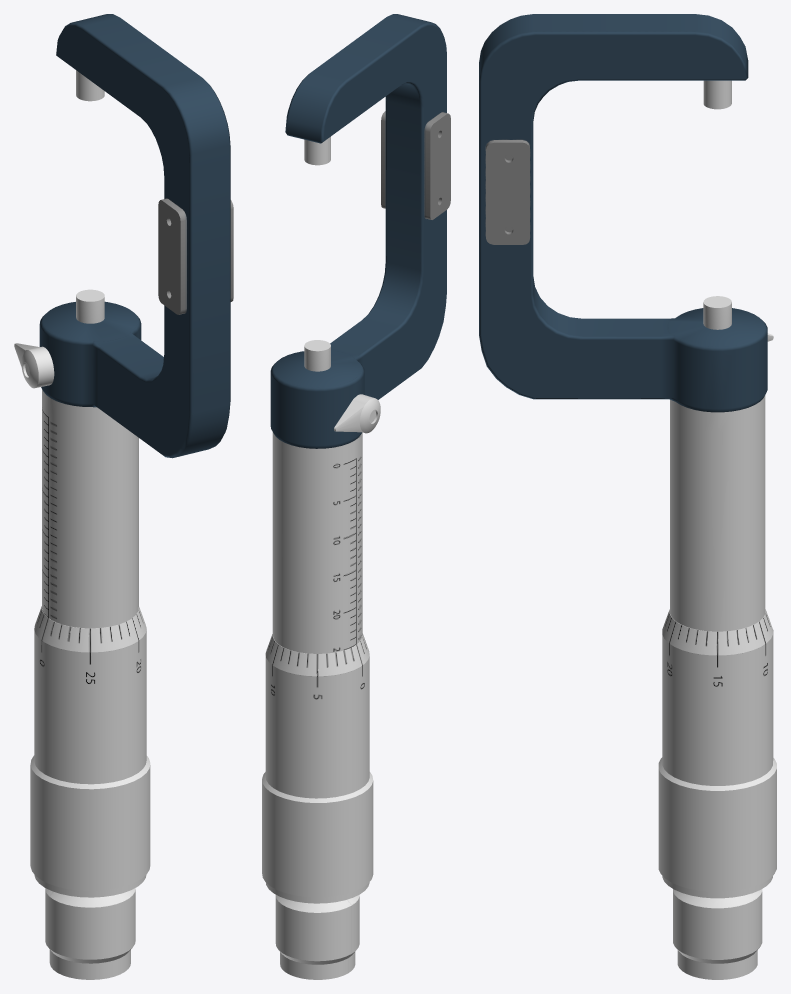
File: MicrometerDetail.fbx
3 renders of one model, left to right at view 1: azimuth 30°, elevation 25°; view 2: azimuth 150°, elevation 25°; view 3: azimuth 270°, elevation 25°, orthographic. The views are drawn at different scales.
Visible parts, largest first — view 1: Micrometer Base.002, Micrometer Rod.002, Micrometer Clicker.002, Micrometer Stopper.002; view 2: Micrometer Base.002, Micrometer Rod.002, Micrometer Clicker.002, Micrometer Stopper.002; view 3: Micrometer Base.002, Micrometer Rod.002, Micrometer Clicker.002.
Boxes of the visible parts, left/top/right/bottom form: Micrometer Base.002: left=39, top=14, right=233, bottom=628; Micrometer Rod.002: left=30, top=289, right=150, bottom=897; Micrometer Clicker.002: left=45, top=888, right=135, bottom=979; Micrometer Stopper.002: left=14, top=343, right=54, bottom=388; Micrometer Base.002: left=270, top=14, right=450, bottom=653; Micrometer Rod.002: left=262, top=340, right=373, bottom=903; Micrometer Clicker.002: left=275, top=895, right=359, bottom=979; Micrometer Stopper.002: left=334, top=394, right=380, bottom=433; Micrometer Base.002: left=479, top=14, right=767, bottom=631; Micrometer Rod.002: left=658, top=296, right=776, bottom=898; Micrometer Clicker.002: left=673, top=889, right=762, bottom=979.
Bounding box in the file's own units: 1.49 × 11.83 × 3.39.
1 material, 1 textured.
